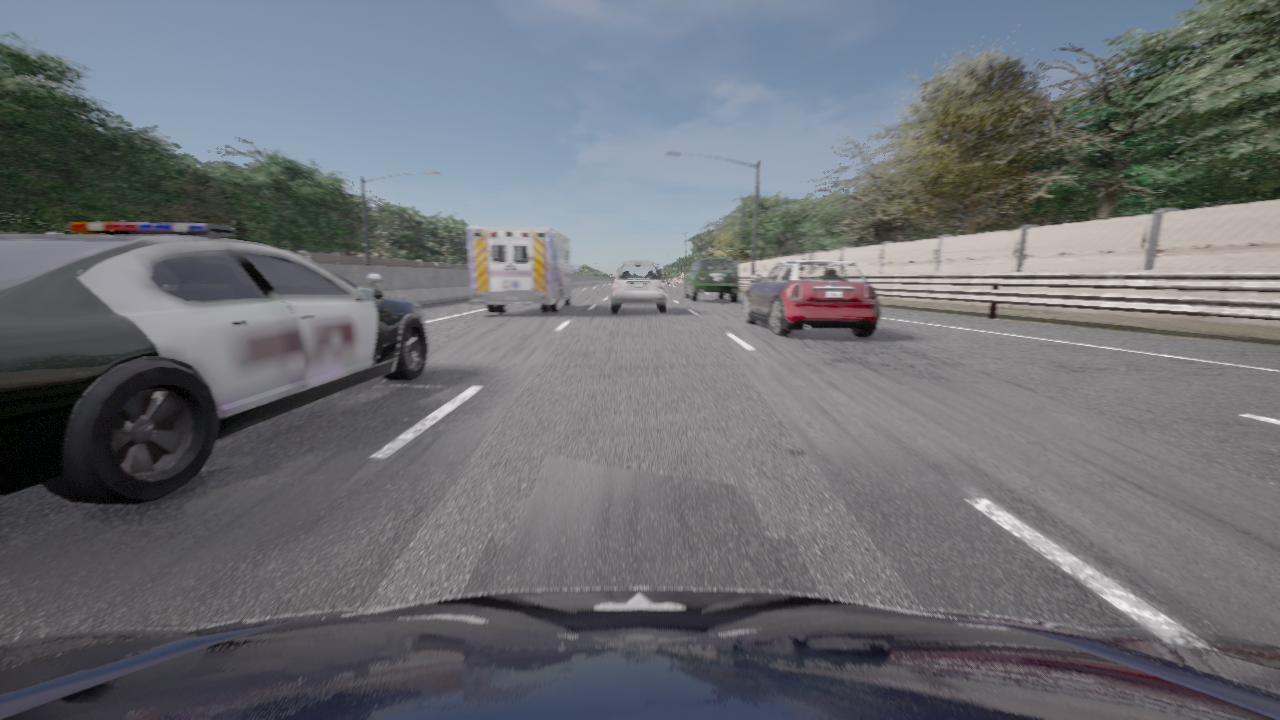cyclist: (0, 588, 1279, 719), (0, 222, 428, 504), (743, 260, 879, 337), (467, 226, 579, 312), (610, 261, 666, 313), (684, 258, 738, 302)
